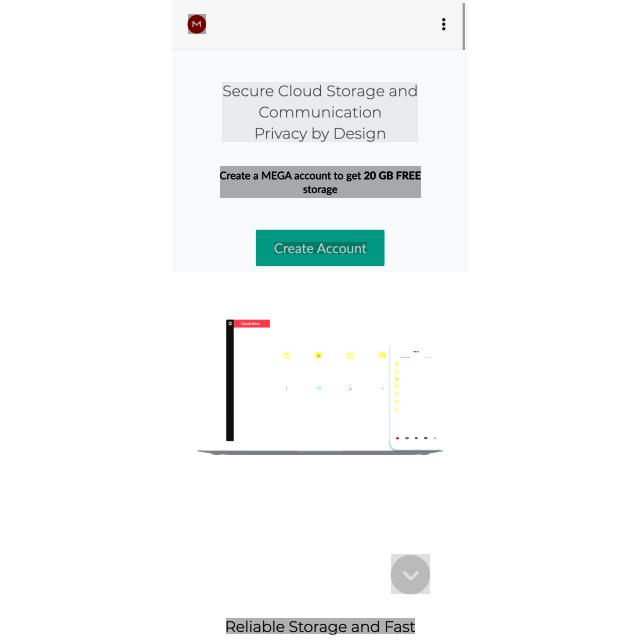CheckBox: (256, 230, 384, 266), (391, 554, 430, 594)
bag: (172, 0, 468, 50)
breadcrumbs: (222, 82, 418, 142), (226, 618, 415, 634)
carousel: (442, 18, 446, 30)
content: (171, 272, 469, 457)
data feed: (274, 242, 367, 255), (188, 14, 206, 34)
image: (220, 166, 421, 198)
